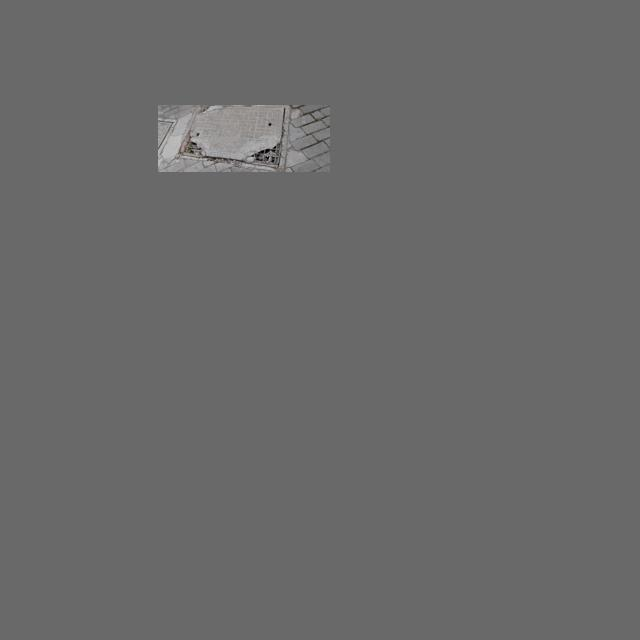broke: (182, 105, 284, 166)
